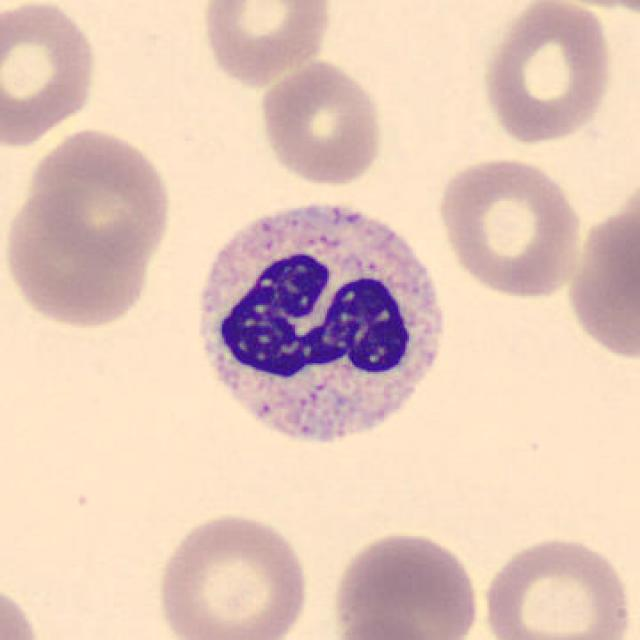Neutrophil: (180, 187, 455, 471)
RBC: (0, 185, 158, 332), (21, 125, 176, 270), (434, 154, 585, 302), (153, 508, 315, 640), (476, 0, 618, 146), (254, 56, 388, 188), (476, 530, 636, 640), (329, 527, 483, 638), (0, 0, 101, 150), (559, 200, 640, 376), (196, 0, 336, 88), (324, 612, 444, 640), (0, 576, 46, 640), (535, 0, 640, 14)
